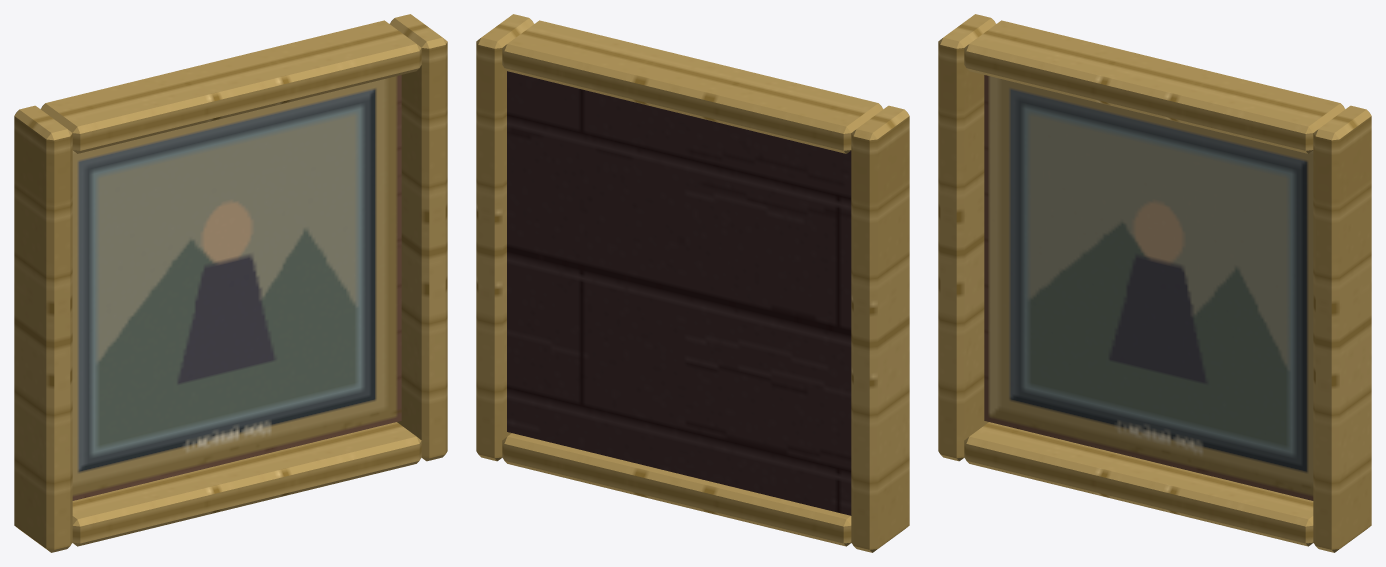
File: MD_38_FamilyPortrait.fbx
3 views of the same model, side by side, from view 1: azimuth 30°, elevation 25°; view 2: azimuth 150°, elevation 25°; view 3: azimuth 330°, elevation 25° (orthographic).
Parts seen in each view (by area): view 1: MD_38_FamilyPortrait_carved_frame_inset, MD_38_FamilyPortrait_carved_frame_upright, MD_38_FamilyPortrait_carved_frame_cross.001, MD_38_FamilyPortrait_carved_frame_upright.001, MD_38_FamilyPortrait_carved_frame_cross; view 2: MD_38_FamilyPortrait_carved_frame_inset, MD_38_FamilyPortrait_carved_frame_upright, MD_38_FamilyPortrait_carved_frame_cross.001, MD_38_FamilyPortrait_carved_frame_upright.001, MD_38_FamilyPortrait_carved_frame_cross; view 3: MD_38_FamilyPortrait_carved_frame_inset, MD_38_FamilyPortrait_carved_frame_upright.001, MD_38_FamilyPortrait_carved_frame_cross.001, MD_38_FamilyPortrait_carved_frame_upright, MD_38_FamilyPortrait_carved_frame_cross.
Part boxes in pixels (left/top/right/bottom): MD_38_FamilyPortrait_carved_frame_inset: left=72, top=75, right=401, bottom=500; MD_38_FamilyPortrait_carved_frame_upright: left=14, top=105, right=72, bottom=552; MD_38_FamilyPortrait_carved_frame_cross.001: left=40, top=20, right=421, bottom=153; MD_38_FamilyPortrait_carved_frame_upright.001: left=390, top=14, right=447, bottom=461; MD_38_FamilyPortrait_carved_frame_cross: left=72, top=422, right=421, bottom=546; MD_38_FamilyPortrait_carved_frame_inset: left=507, top=71, right=851, bottom=515; MD_38_FamilyPortrait_carved_frame_upright: left=851, top=105, right=909, bottom=552; MD_38_FamilyPortrait_carved_frame_cross.001: left=502, top=20, right=883, bottom=153; MD_38_FamilyPortrait_carved_frame_upright.001: left=476, top=14, right=533, bottom=461; MD_38_FamilyPortrait_carved_frame_cross: left=502, top=433, right=851, bottom=546; MD_38_FamilyPortrait_carved_frame_inset: left=984, top=75, right=1313, bottom=500; MD_38_FamilyPortrait_carved_frame_upright.001: left=1313, top=105, right=1371, bottom=552; MD_38_FamilyPortrait_carved_frame_cross.001: left=964, top=20, right=1345, bottom=153; MD_38_FamilyPortrait_carved_frame_upright: left=938, top=14, right=995, bottom=461; MD_38_FamilyPortrait_carved_frame_cross: left=964, top=422, right=1313, bottom=546.
Bounding box in the file's own units: 0.55 × 0.55 × 0.09.
3 materials, 3 textured.
